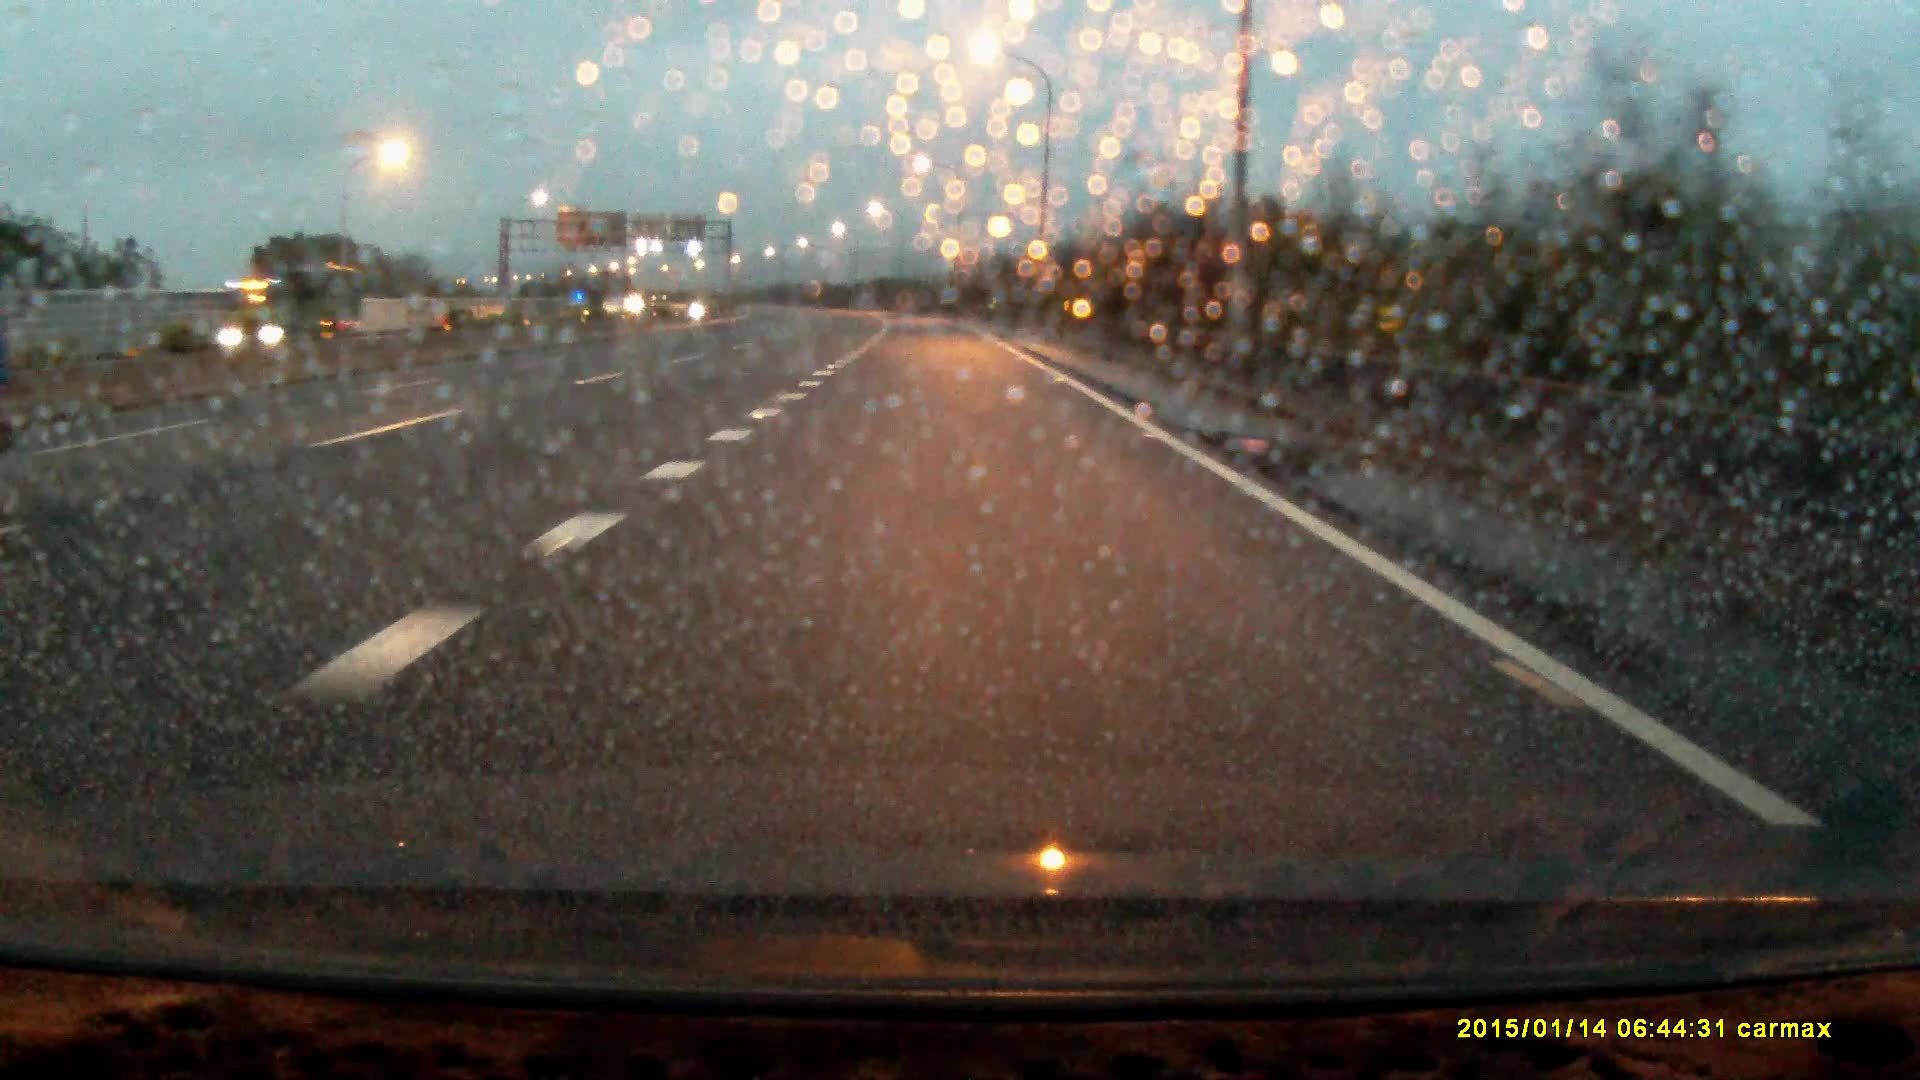vehicle: (222, 274, 363, 345)
